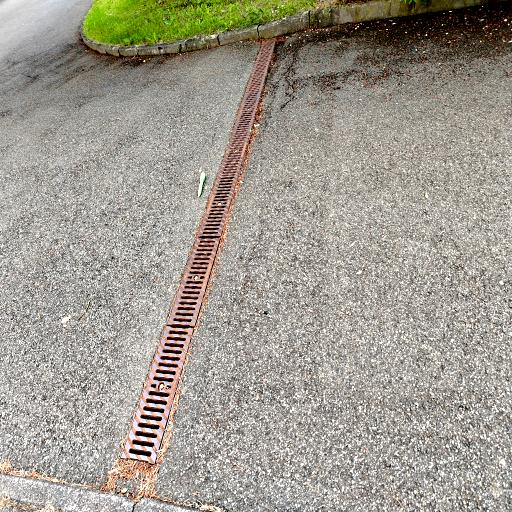Probe-Detection: (197, 172, 206, 197)
